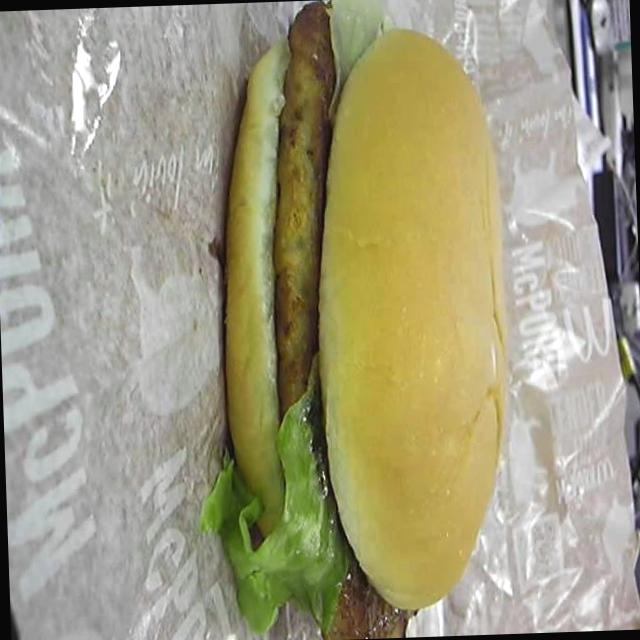Hamburger: (182, 0, 516, 640)
